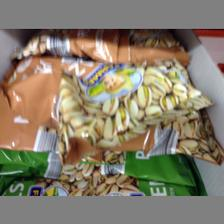Nuss: (0, 54, 218, 162)
